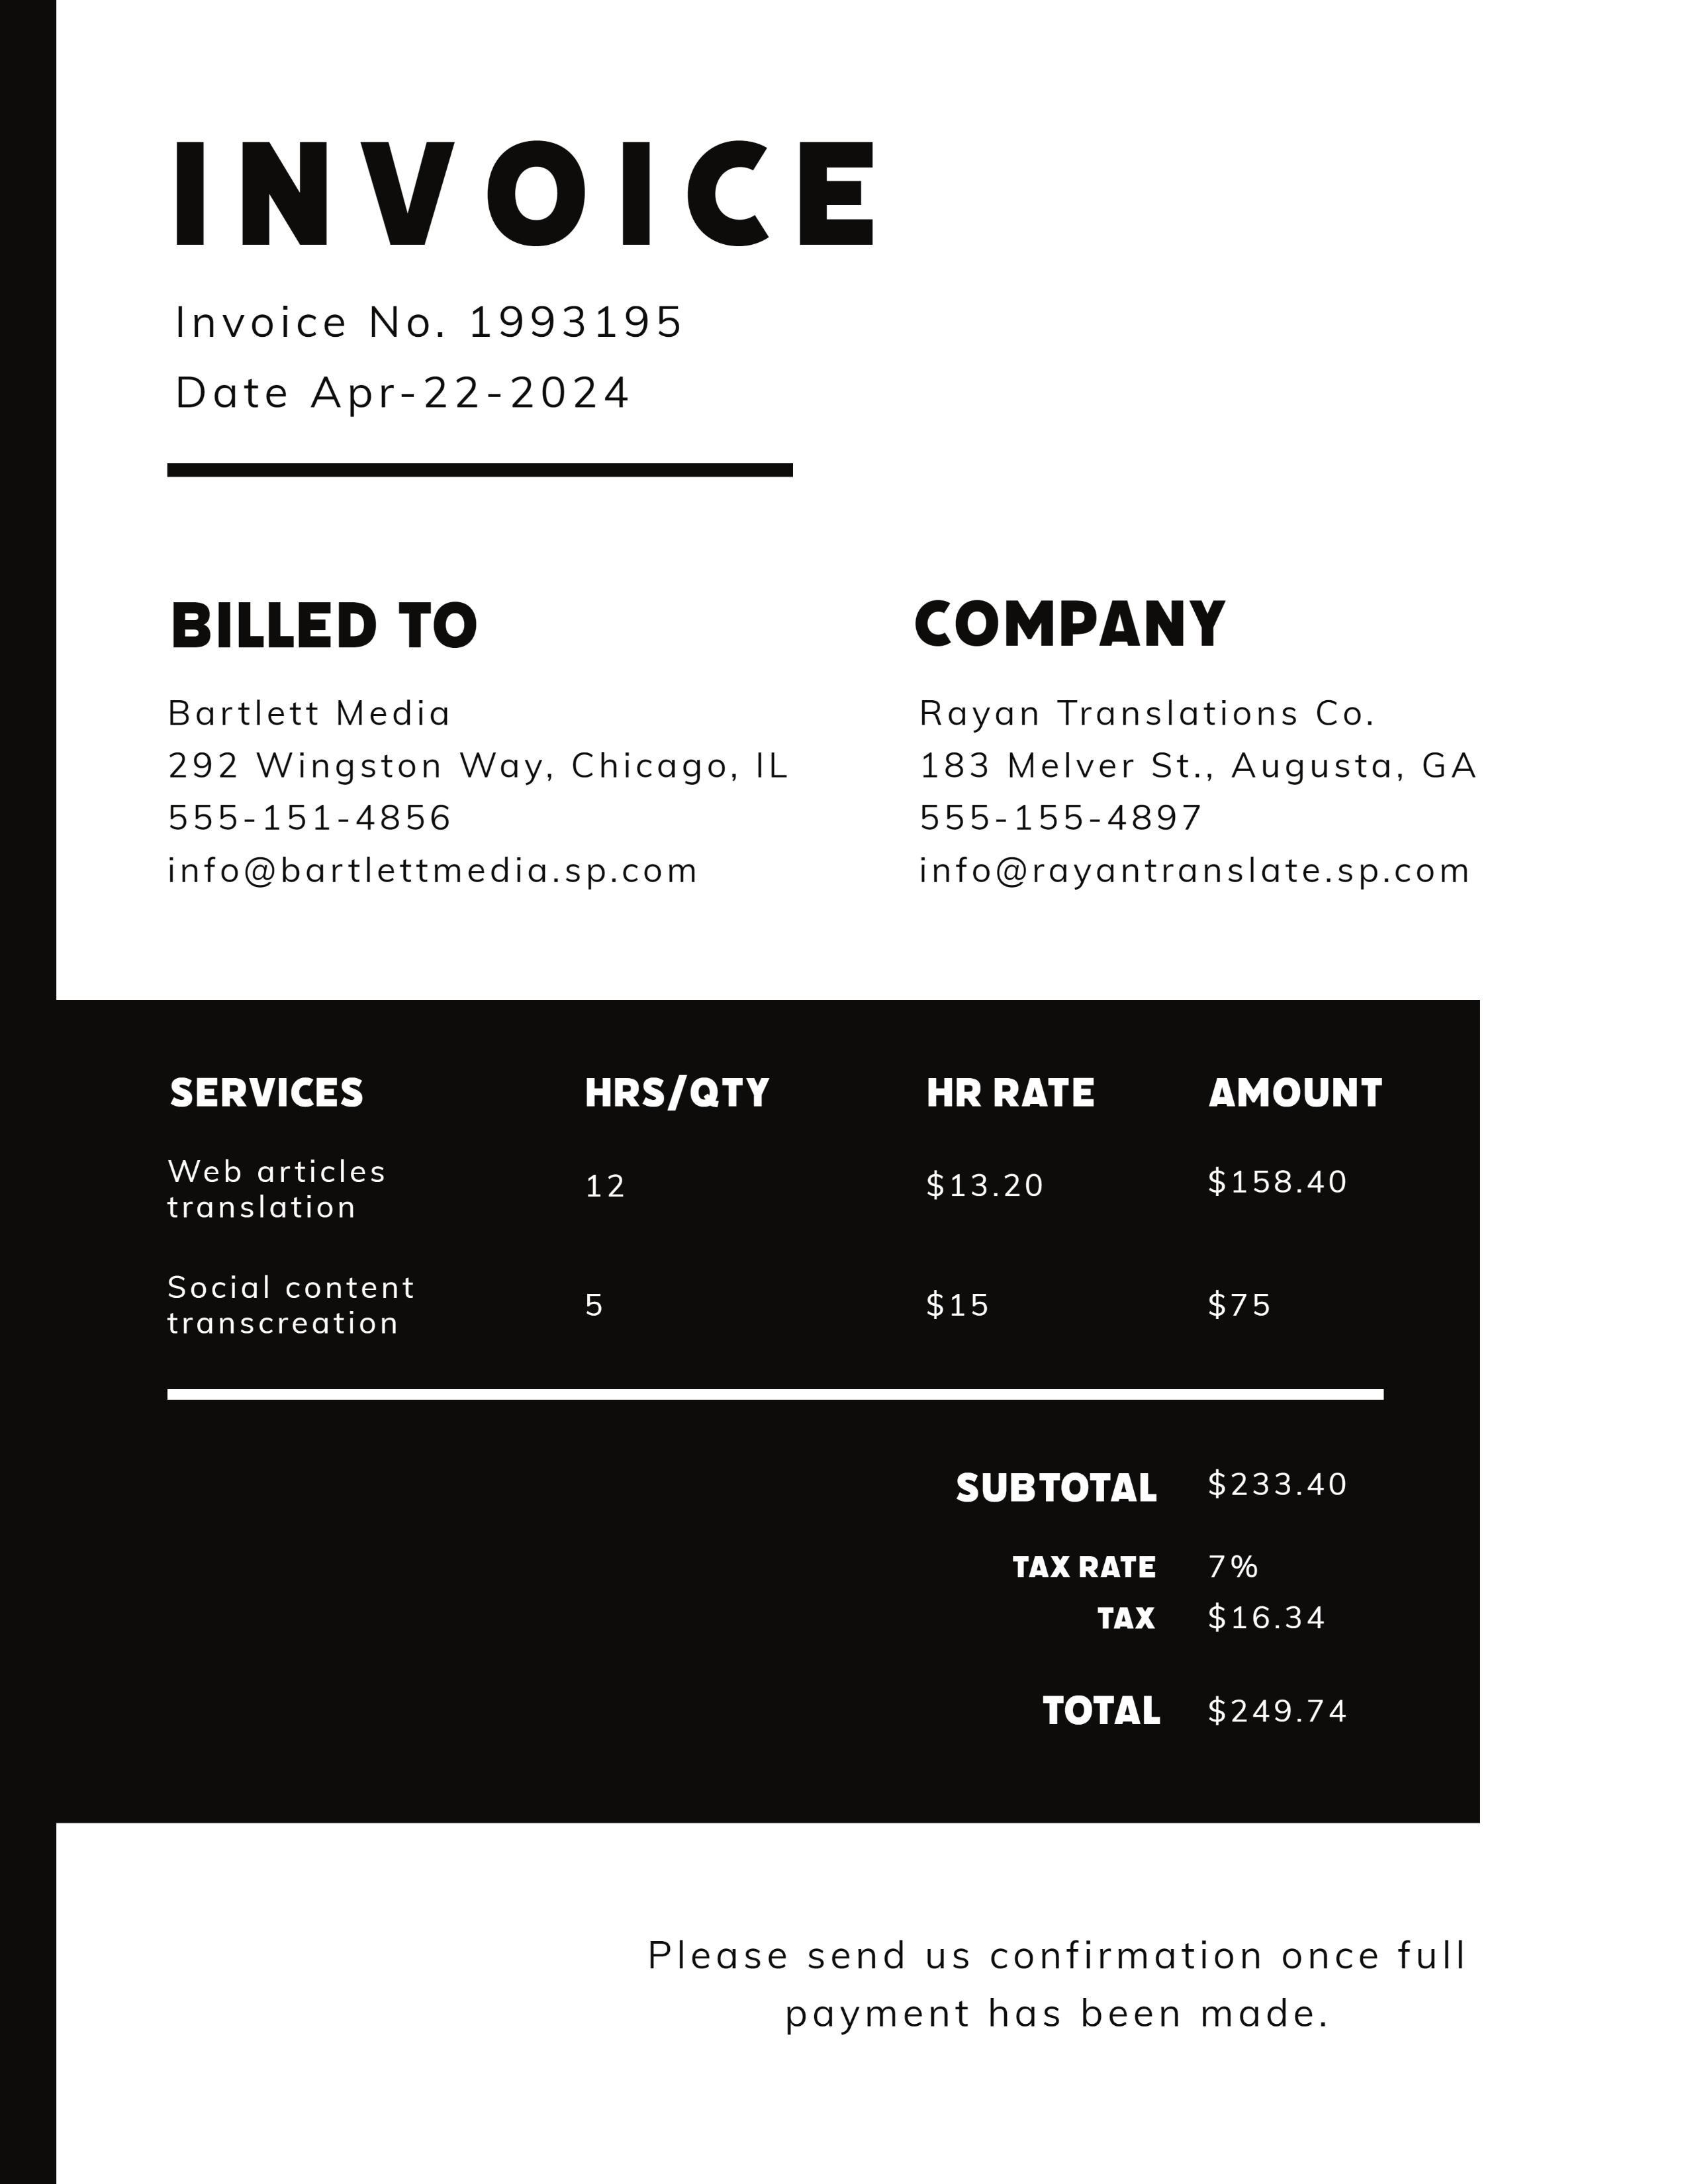ROI: (138, 1057, 1405, 1422), (156, 594, 810, 907), (898, 586, 1515, 903), (944, 1449, 1407, 1772), (167, 288, 763, 454)
